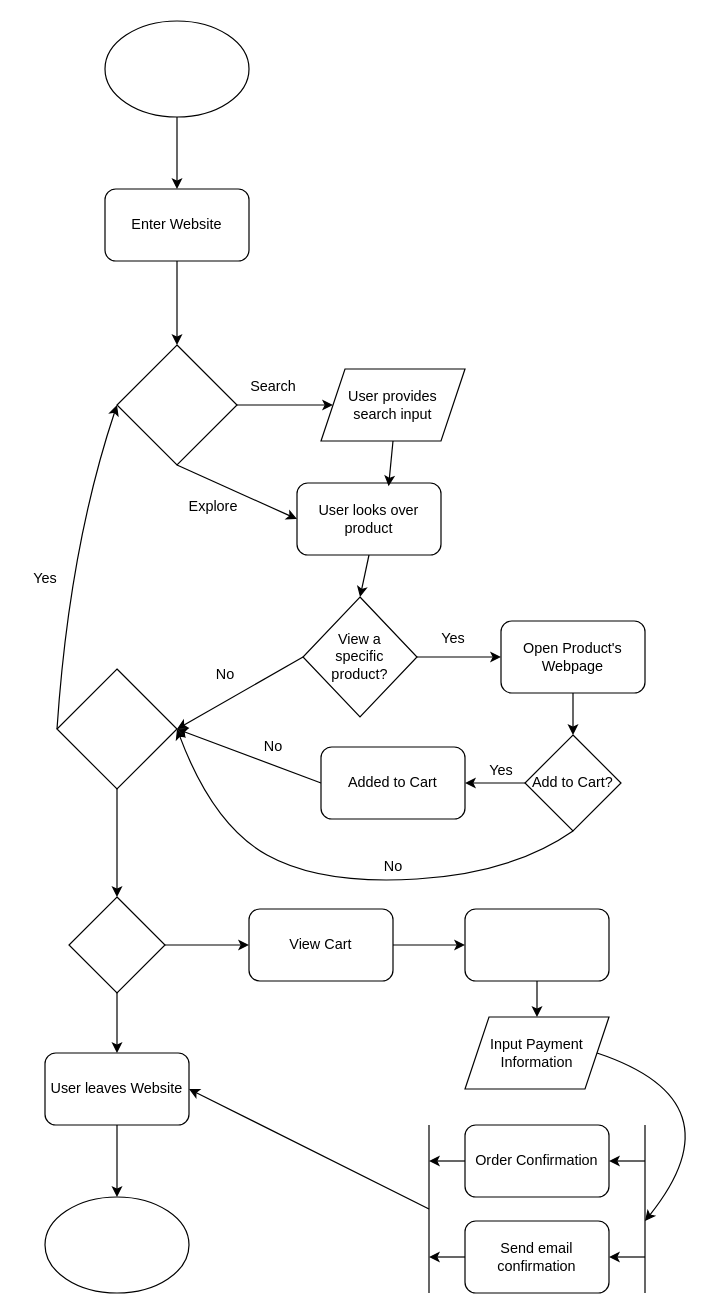
Image size: 706x1315. Some labels were removed from this diagram. Here are the shapes that lost their labels. From the top down, the centre of each, then its label:
At (x=176, y=68): "Start".
At (x=176, y=404): "Search or Explore".
At (x=116, y=728): "Continue Shopping?".
At (x=116, y=944): "Checkout?".
At (x=536, y=944): "View Payment".
At (x=116, y=1244): "End".
